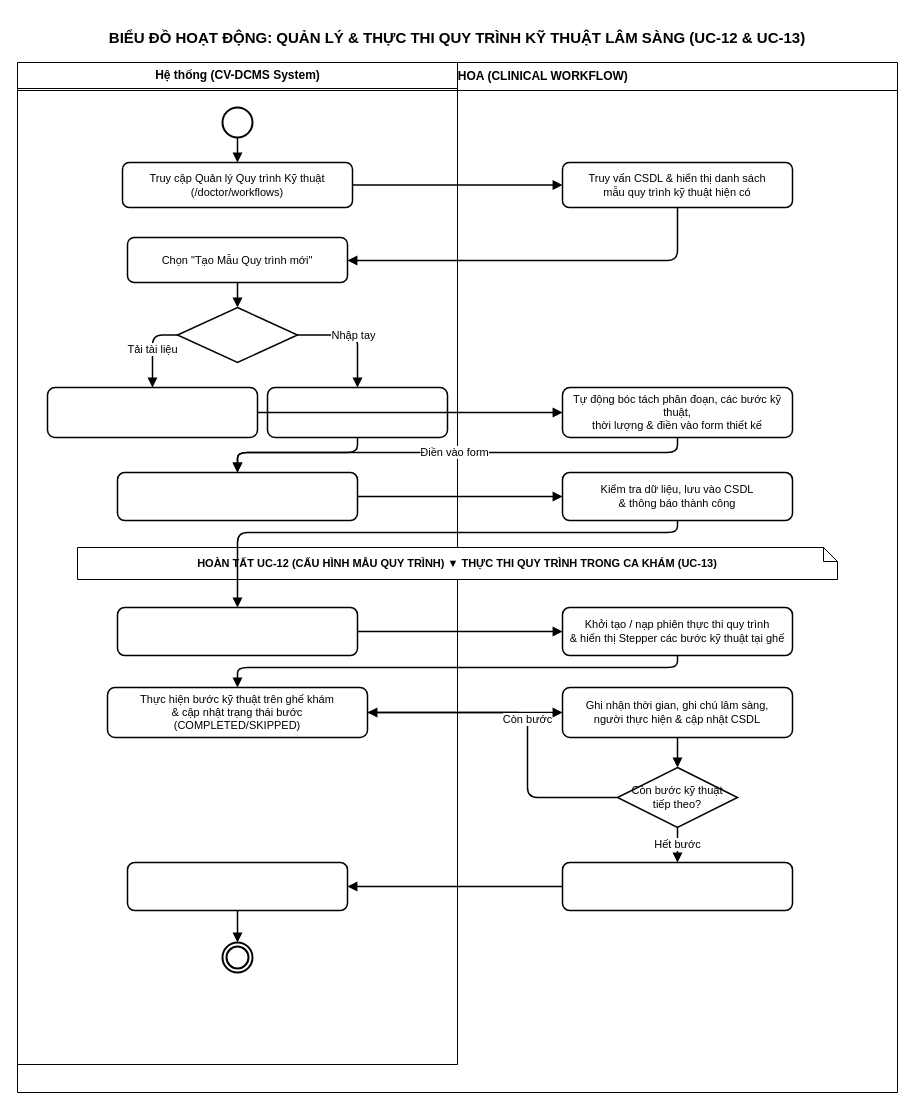
This 915x1110 diagram has some shape labels left out. The shapes that lost their labels are listed below. From the top down, each one's centre as x and y in pixels, then its label:
the point at 237,334: Phương thức nhập liệu?
the point at 152,412: Tải lên ảnh chụp / văn bản quy trình chuẩn Bộ Y tế (QĐ 3207/QĐ-BYT)
the point at 357,412: Nhập thông tin mẫu (tên, dịch vụ) & tạo thủ công các bước kỹ thuật lâm sàng
the point at 237,496: Xem lại cấu trúc bước, gán vai trò Bác sĩ/Phụ tá & nhấn "Lưu Quy trình"
the point at 237,631: Mở ca khám bệnh nhân (/doctor/diagnoses) & chỉ định Dịch vụ kỹ thuật
the point at 237,886: Hoàn tất thủ thuật lâm sàng
the point at 677,886: Kiểm tra hoàn thành mọi bước bắt buộc, đóng phiên thực thi (COMPLETED)
